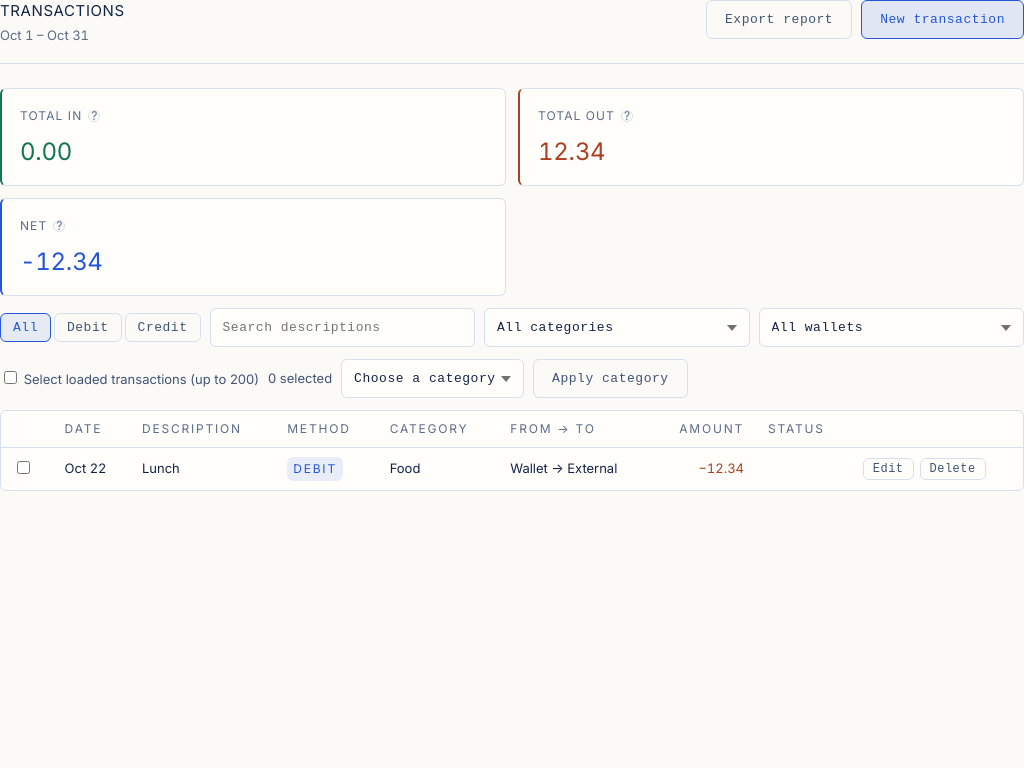
Test: transaction cleanup › keeps the export dialog open for retry when fetching fails
Check: the cell "Lunch" is shown, box [130, 448, 275, 490]
Click the button "Export report".
click(779, 20)  # box [706, 0, 852, 39]
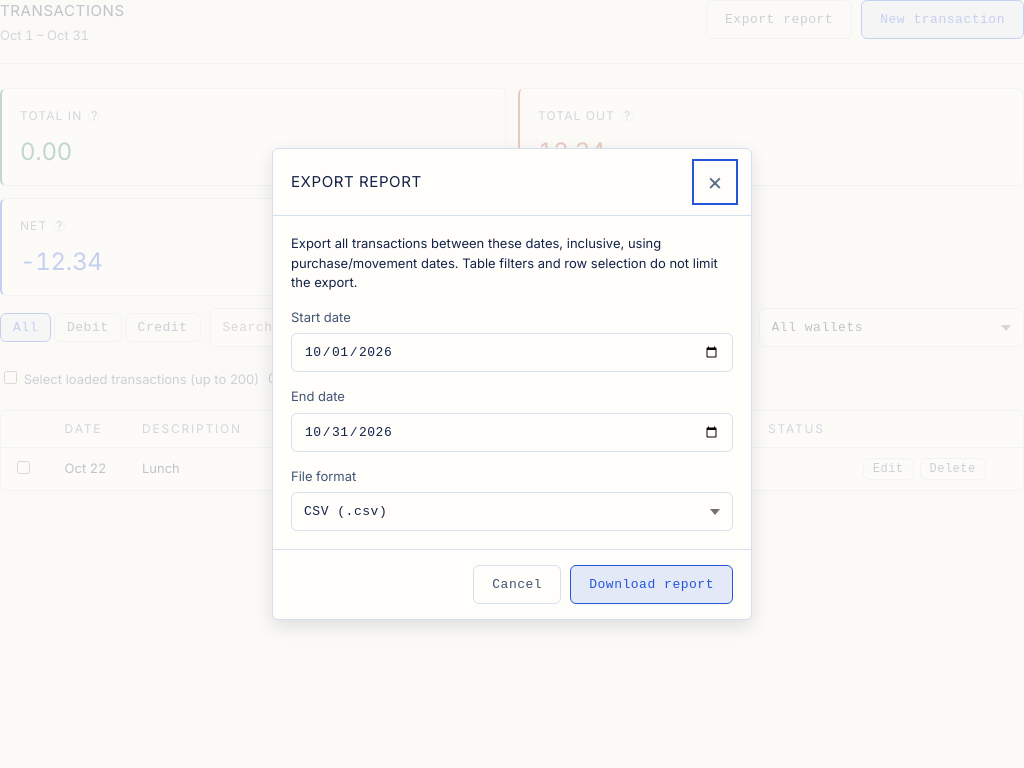
Click the button "Download report".
click(652, 584)  # box [570, 565, 733, 604]
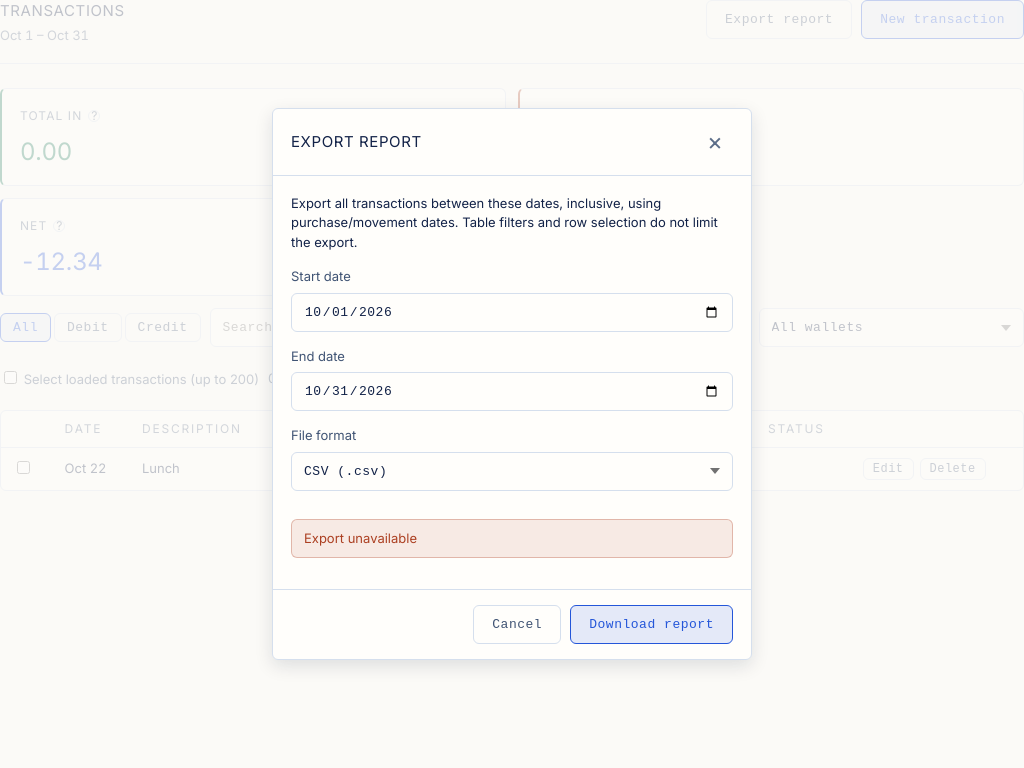
Check: the button "Download report" is enabled, box [570, 605, 733, 644]
Check: the message reads "Export unavailable", box [304, 530, 417, 546]
